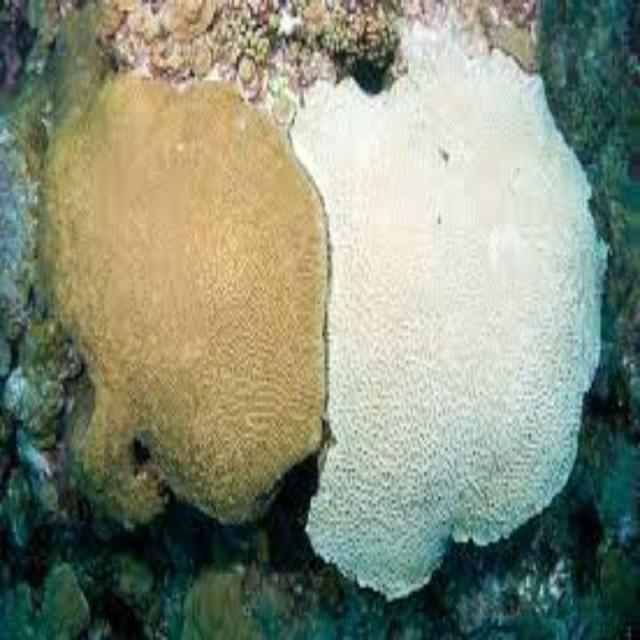Bleached: (297, 32, 616, 603)
Healthy: (46, 56, 326, 533)
